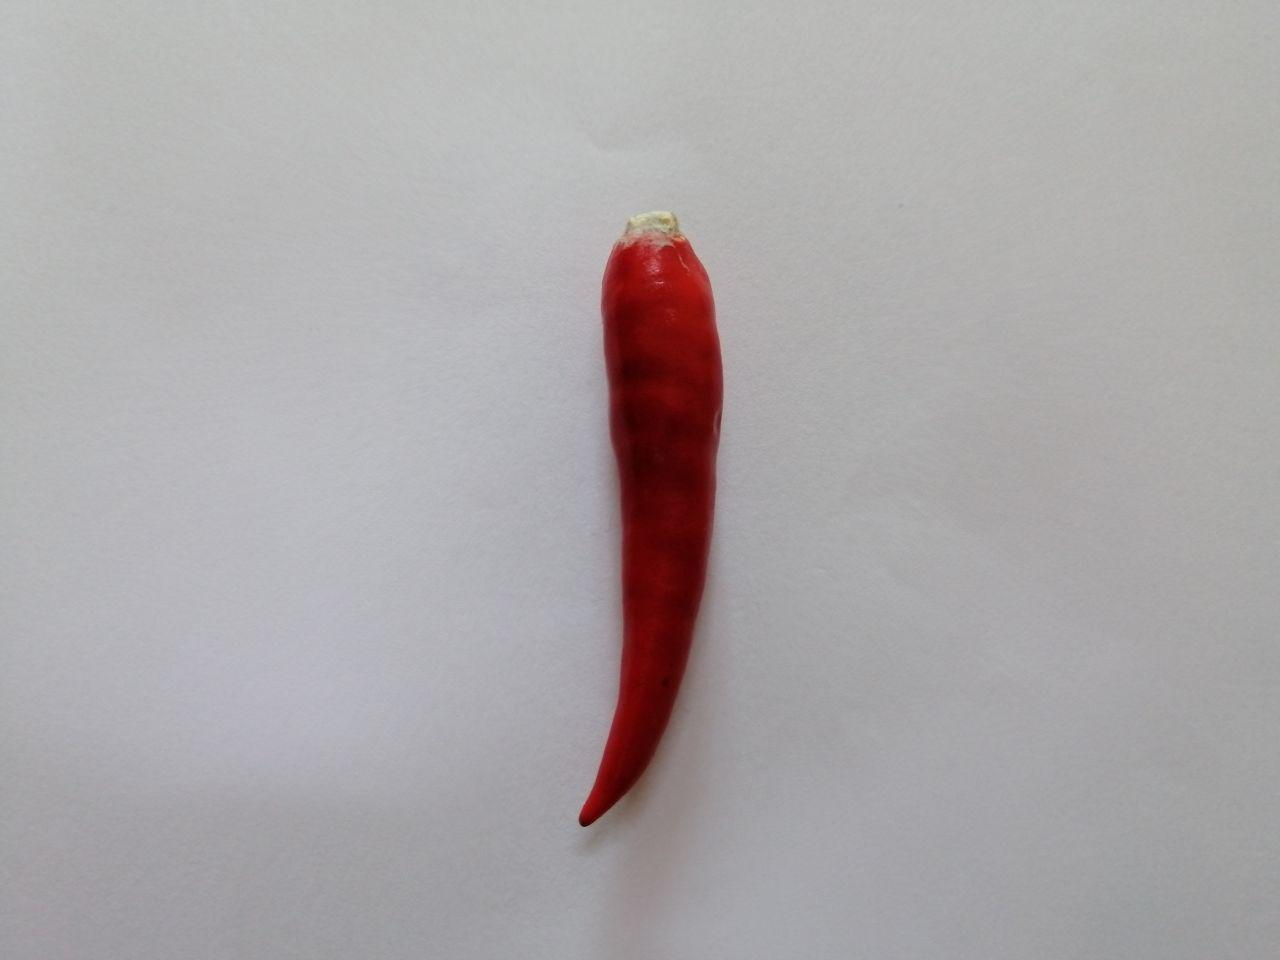lada merah: (571, 200, 740, 844)
